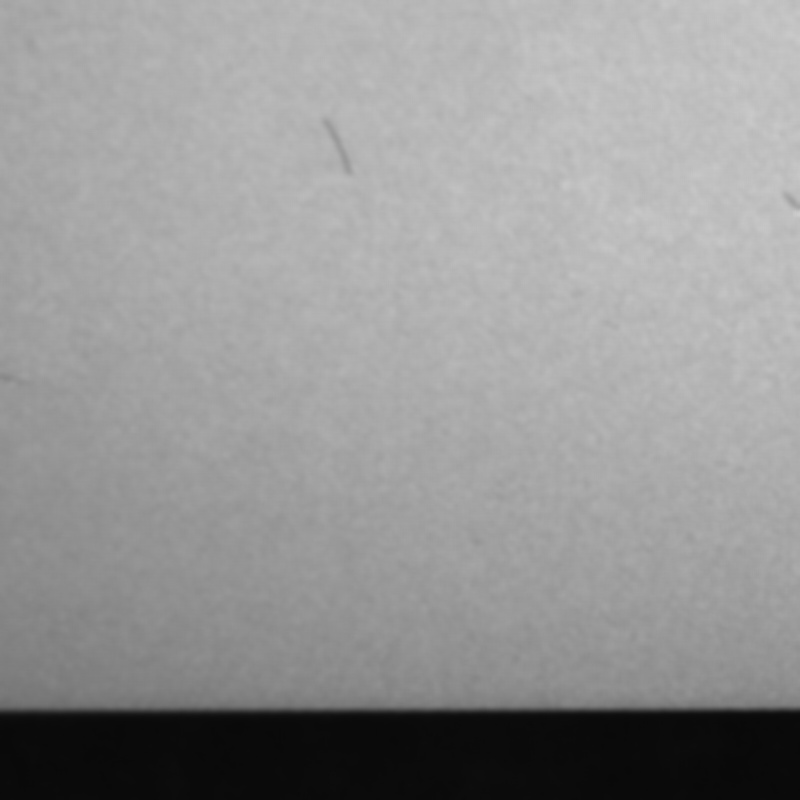defect: (318, 113, 359, 182), (777, 181, 800, 217)
